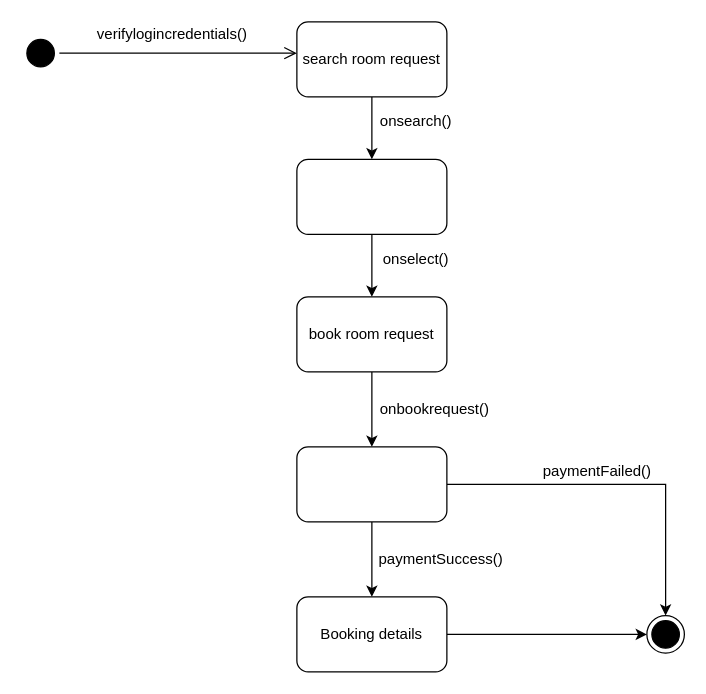
This 706x694 diagram has some shape labels left out. Here are the shapes that lost their labels. From the top down, the box of each, then its label:
(296, 158, 447, 234): select room
(296, 446, 447, 522): payment status
